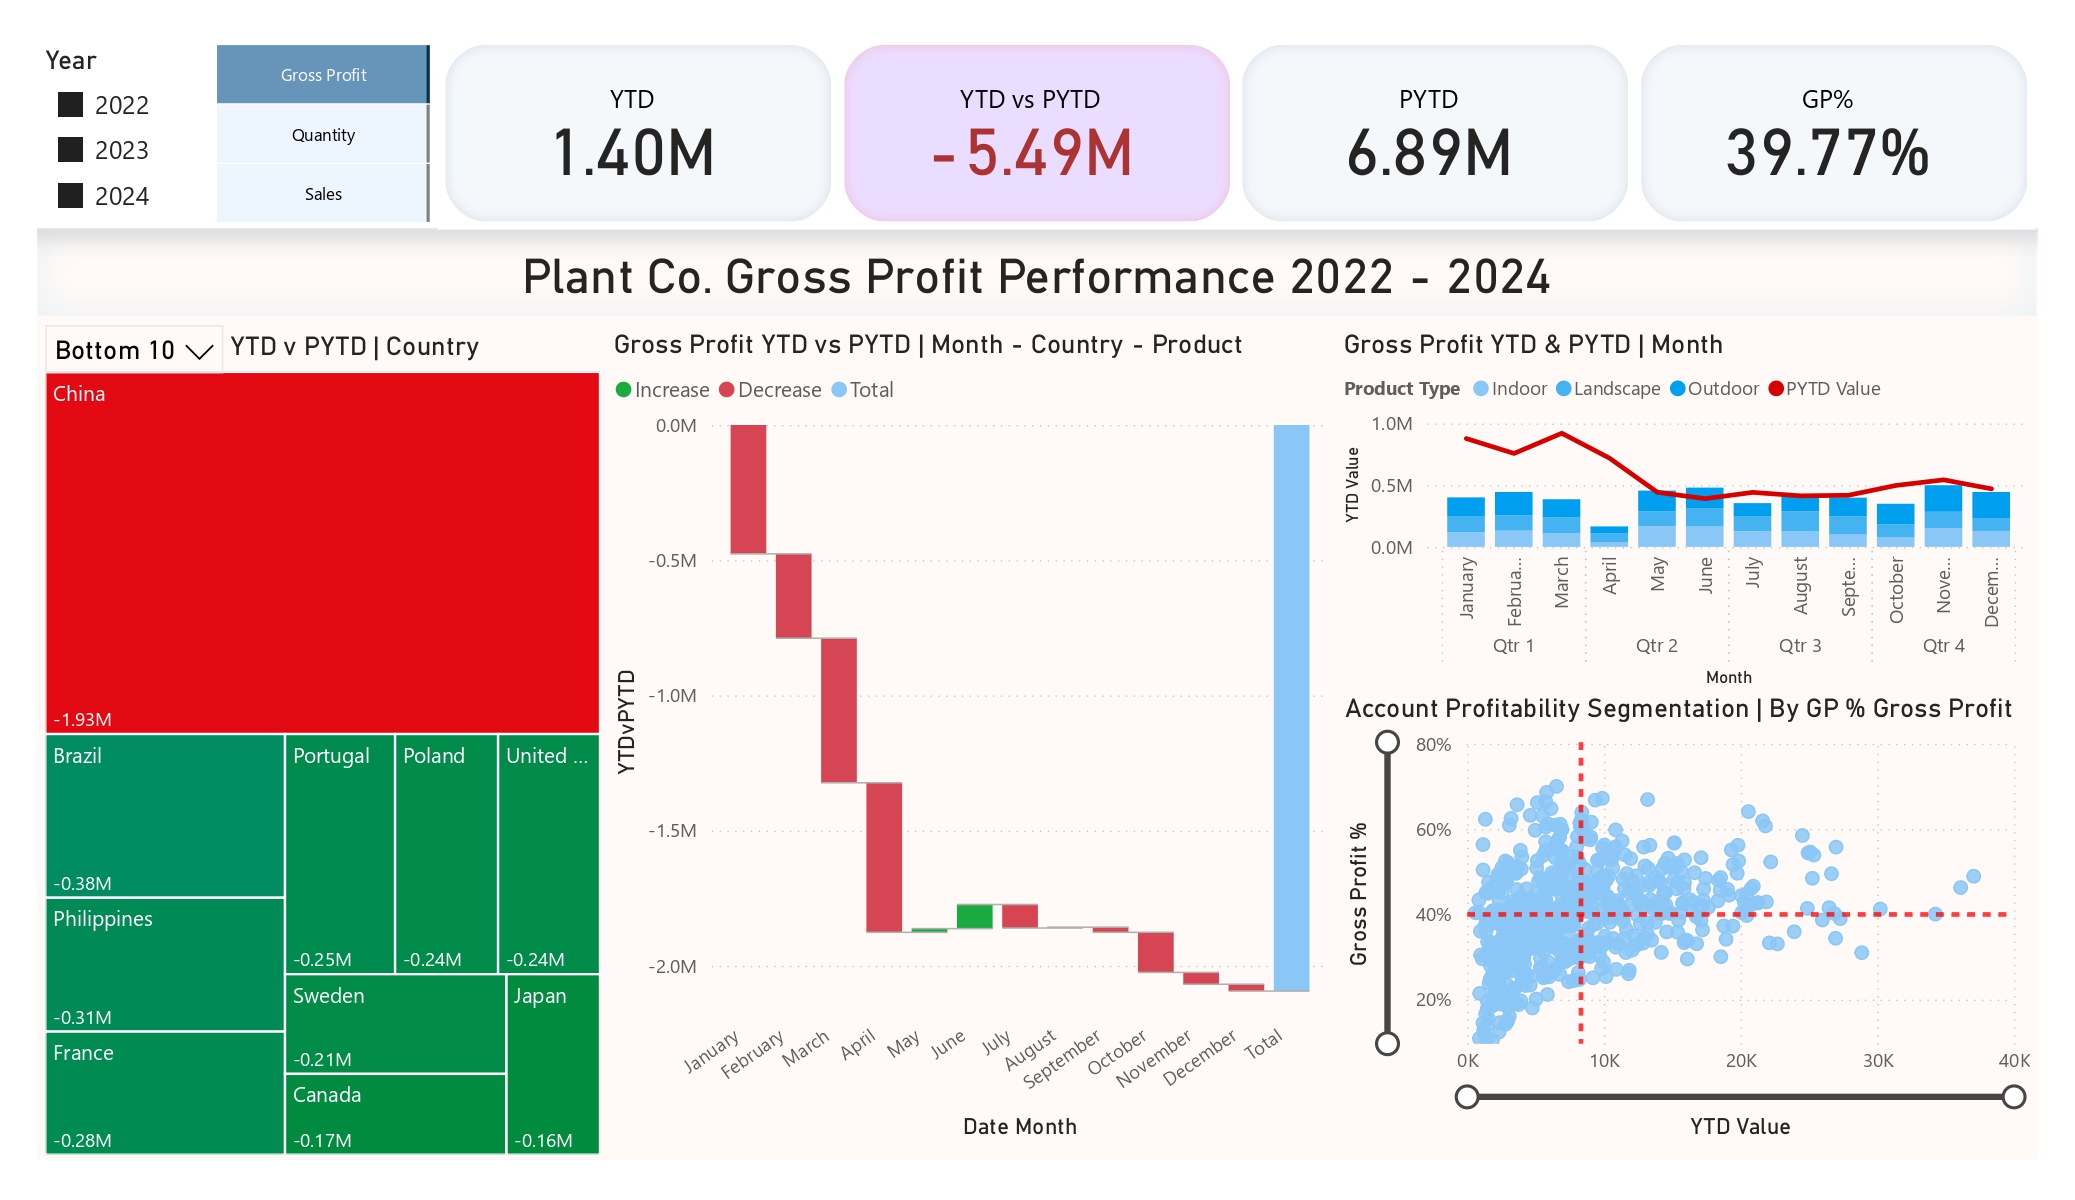

This screenshot's page, from the dashboard's own definition file:
{"tool":"powerbi","page":{"name":"Plant Co. Dashboard","canvas":[1280,720],"ordinal":0},"visuals":[{"type":"slicer","title":"Year","fields":{"Values":["Dim_Date.Date.Variation.Date Hierarchy.Year"]},"box":[0,4.4,109.8,118.5],"z":0},{"type":"advancedSlicerVisual","fields":{"Values":["Slicer_Values.Value"]},"box":[109.8,0,145.8,122.9],"z":1000},{"type":"waterfallChart","fields":{"Category":["Dim_Date.Date.Variation.Date Hierarchy.Month","Dim_Account.country","Dim_Product.Product_Type","Dim_Product.Product_Name"],"Y":["_Measure.YTDvPYTD"]},"box":[364.4,186.1,466.2,524.2],"z":2000},{"type":"lineStackedColumnComboChart","fields":{"Y":["_Measure.Switch_YTD"],"Y2":["_Measure.Switch_PYTD"],"Category":["Dim_Date.Date.Variation.Date Hierarchy.Quarter","Dim_Date.Date.Variation.Date Hierarchy.Month"],"Series":["Dim_Product.Product_Type"]},"box":[830.6,186.1,449.6,233.6],"z":3000},{"type":"treemap","title":"                   10 YTD v PYTD | Country","fields":{"Values":["_Measure._DynamicRanking"],"Group":["Dim_Account.country"]},"box":[0,209.1,364.7,510.6],"z":4000},{"type":"cardVisual","fields":{"Data":["_Measure.Switch_YTD","_Measure.YTDvPYTD","_Measure.Switch_PYTD","_Measure.GP%"]},"box":[255.5,0,1023.8,122.9],"z":5000},{"type":"scatterChart","fields":{"Y":["_Measure.GP%"],"X":["_Measure.Switch_YTD"],"Category":["Dim_Account.Account"]},"box":[832,419,448,291],"z":6000},{"type":"card","title":"asdsad\\","fields":{"Values":["_Measure._ReportTitle"]},"box":[0,122.9,1279.3,55.3],"z":7000},{"type":"slicer","fields":{"Values":["_Ranking.Ranking"]},"box":[0,174.2,124.2,42.5],"z":8000},{"type":"textbox","box":[118.3,181.7,234.2,35],"z":9000}]}

Visuals, with their boxes in screenshot pixels (x1, y1, x2, y2):
"Year" slicer: Rect(38, 44, 209, 230)
advancedSlicerVisual - Slicer_Values.Value: Rect(209, 38, 437, 230)
waterfallChart - Dim_Date.Date.Variation.Date Hierarchy.Month x Dim_Account.country: Rect(607, 328, 1335, 1147)
lineStackedColumnComboChart - _Measure.Switch_YTD x _Measure.Switch_PYTD: Rect(1335, 328, 2038, 693)
"                   10 YTD v PYTD | Country" treemap: Rect(38, 364, 607, 1162)
cardVisual - _Measure.Switch_YTD x _Measure.YTDvPYTD: Rect(437, 38, 2036, 230)
scatterChart - _Measure.GP% x _Measure.Switch_YTD: Rect(1338, 692, 2038, 1147)
"asdsad\" card: Rect(38, 230, 2036, 316)
slicer - _Ranking.Ranking: Rect(38, 310, 232, 376)
textbox: Rect(222, 321, 588, 376)
